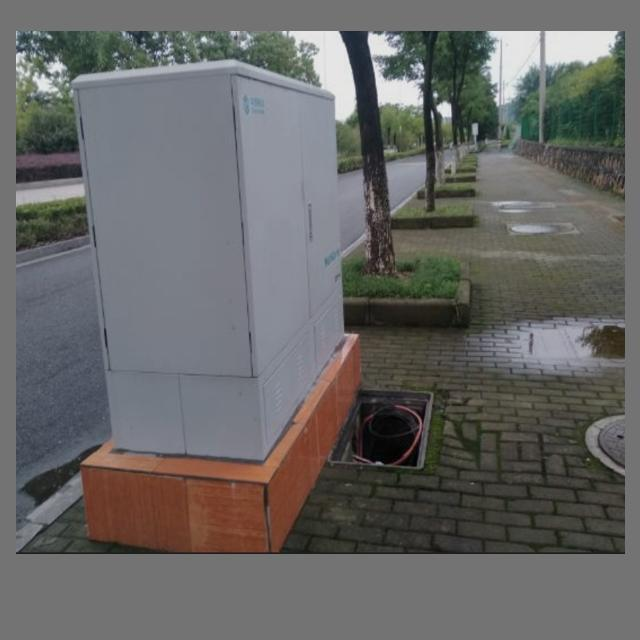lose: (325, 387, 433, 471)
